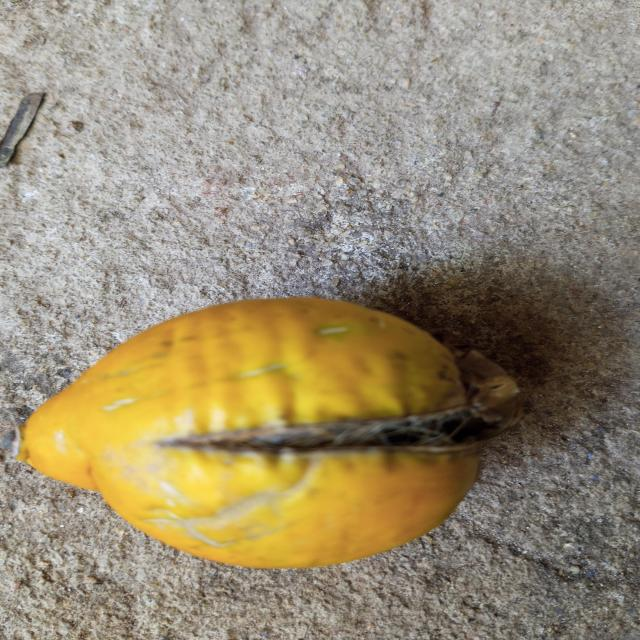damaged: (19, 297, 512, 572)
